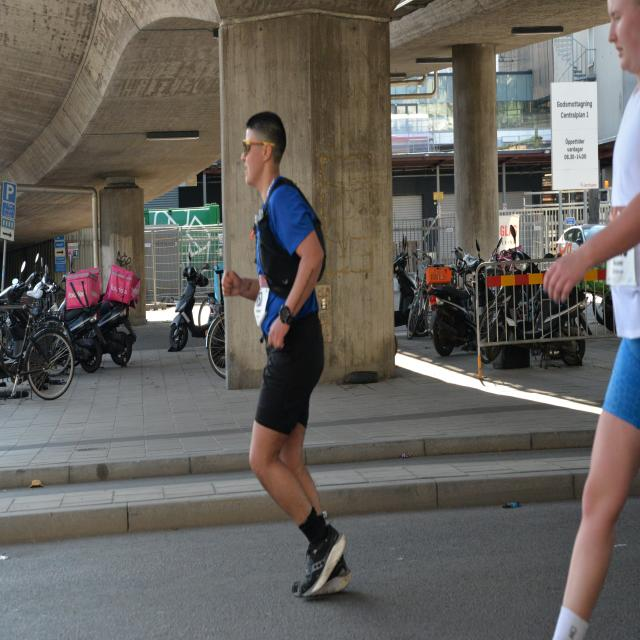runner-detect: (213, 98, 399, 606)
